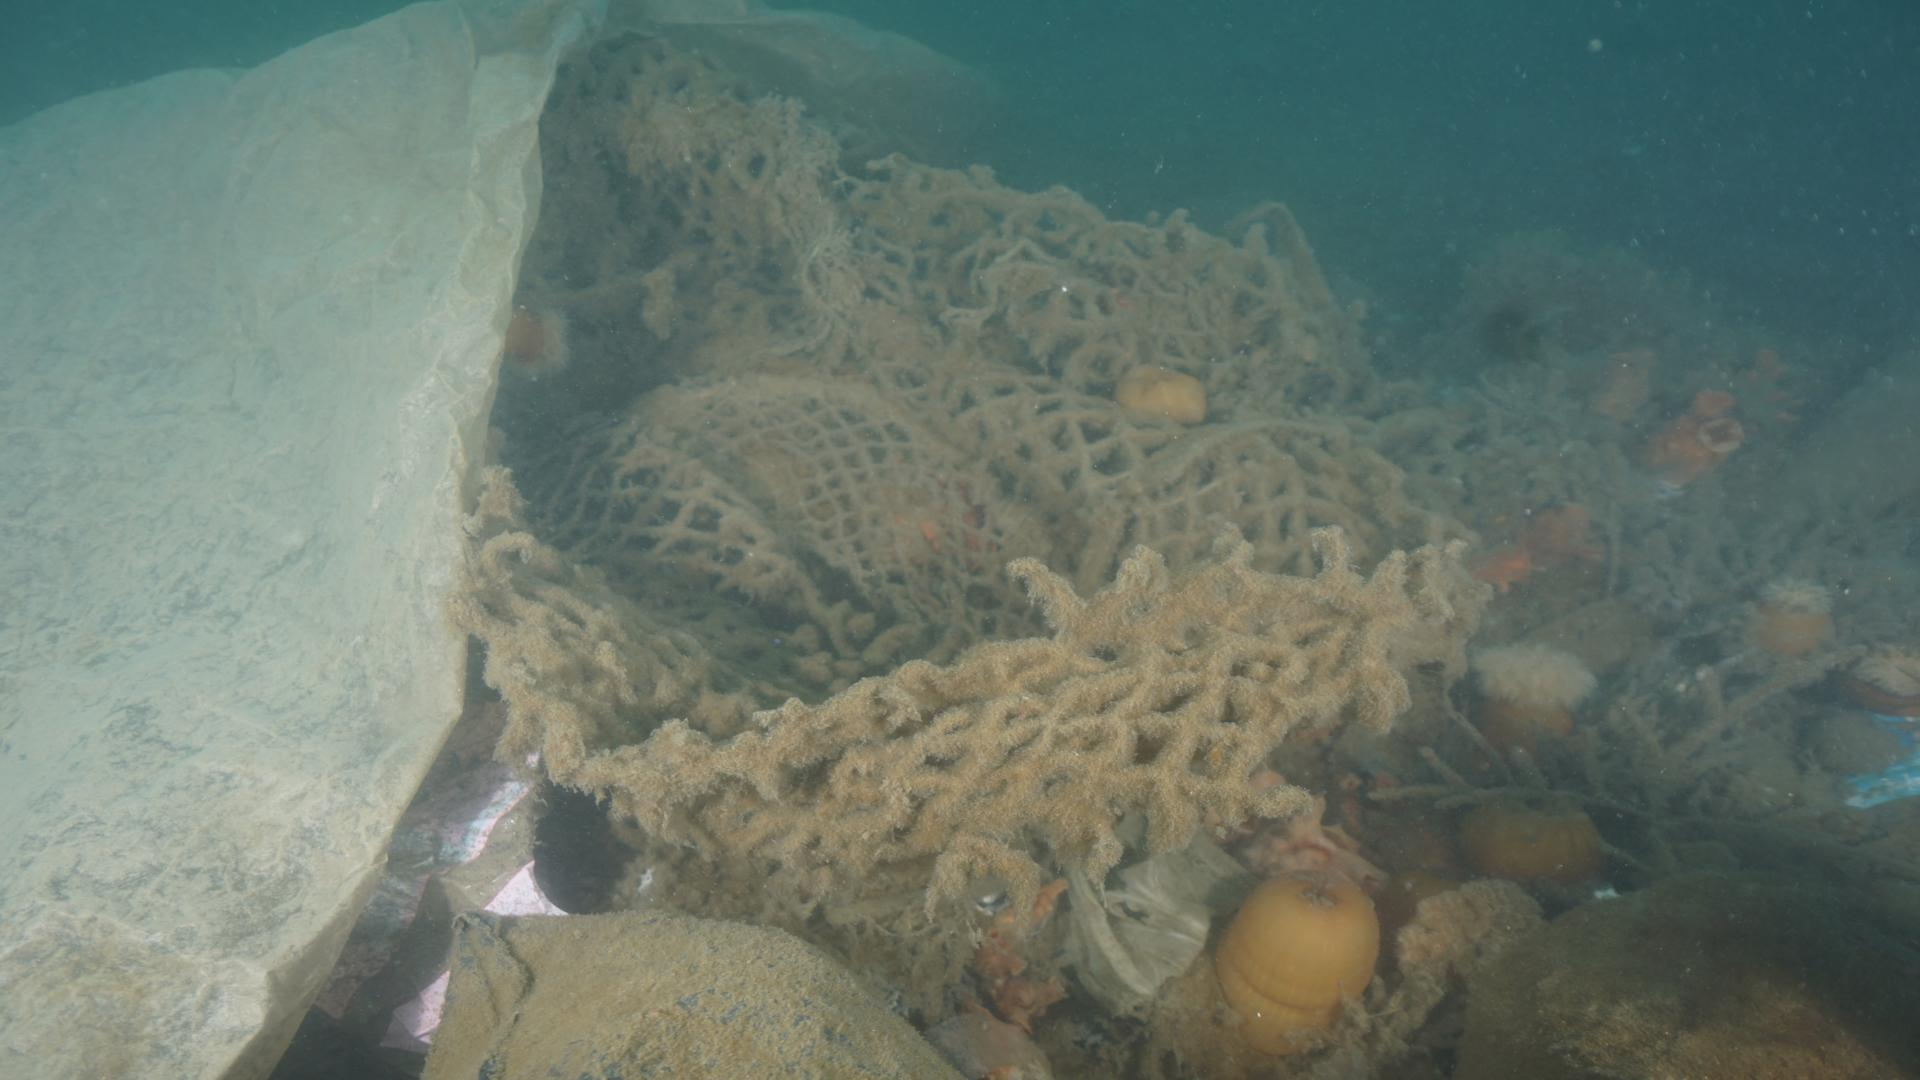fish net: (442, 22, 1447, 928)
